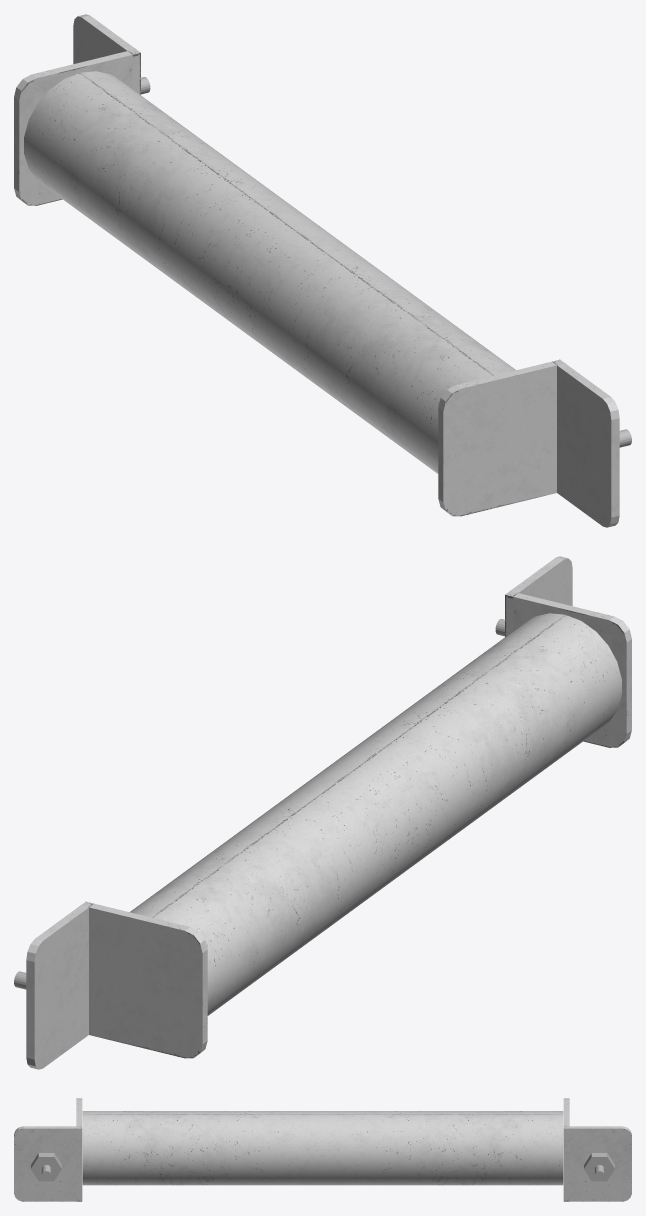
Rendered from Rigid Cilynder.fbx.
The picture shows the model from 3 angles, top to bottom: view 1: azimuth 30°, elevation 25°; view 2: azimuth 150°, elevation 25°; view 3: azimuth 270°, elevation 25°; orthographic projection. The views are drawn at different scales.
Parts seen in each view (by area): view 1: Cylinder; view 2: Cylinder; view 3: Cylinder, Cylinder.001, Cylinder.002.
Part boxes in pixels (box(x1,y1,x2,y2)): Cylinder: box(14, 14, 619, 527); Cylinder: box(26, 556, 631, 1069); Cylinder: box(14, 1098, 631, 1201); Cylinder.001: box(31, 1153, 614, 1181); Cylinder.002: box(41, 1165, 604, 1179).
Bounding box in the file's own units: 9.84 × 7.57 × 57.88.
Materials: 1 (1 with a texture image).
